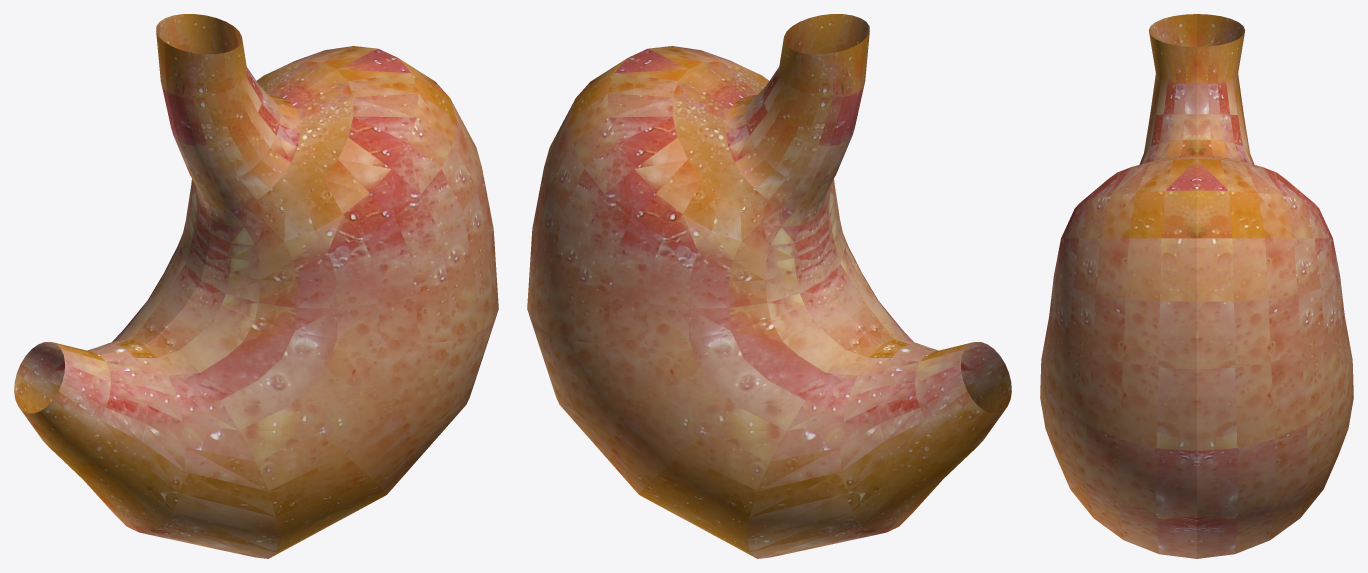
The model's file is stomach.dae.
3 views of the same model, side by side, from view 1: azimuth 30°, elevation 25°; view 2: azimuth 150°, elevation 25°; view 3: azimuth 270°, elevation 25° (orthographic). The views are drawn at different scales.
Visible parts, largest first — view 1: group_0, group_1; view 2: group_1, group_0; view 3: group_0, group_1.
Part boxes in pixels (x1=…): group_0: x1=23, y1=27, x2=498, y2=558; group_1: x1=14, y1=14, x2=397, y2=522; group_1: x1=527, y1=27, x2=1002, y2=558; group_0: x1=628, y1=14, x2=1011, y2=522; group_0: x1=1040, y1=14, x2=1196, y2=558; group_1: x1=1197, y1=14, x2=1353, y2=558.
Bounding box in the file's own units: 35.06 × 22.28 × 38.73.
